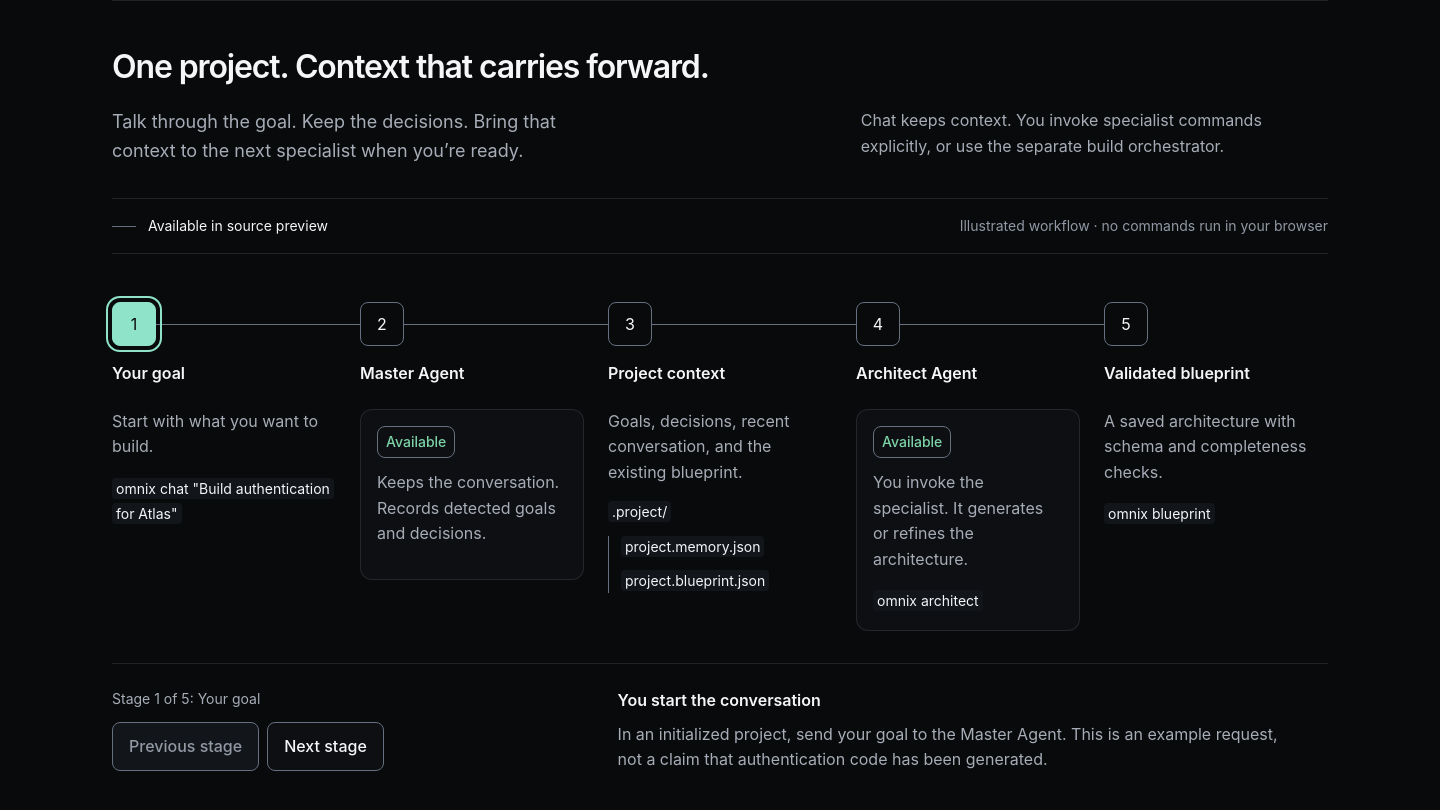
Scenario: keeps the complete ordered story readable while visitors select a stage
Click the button "4 Architect Agent": click(968, 343) x1=856 y1=302 x2=1080 y2=385
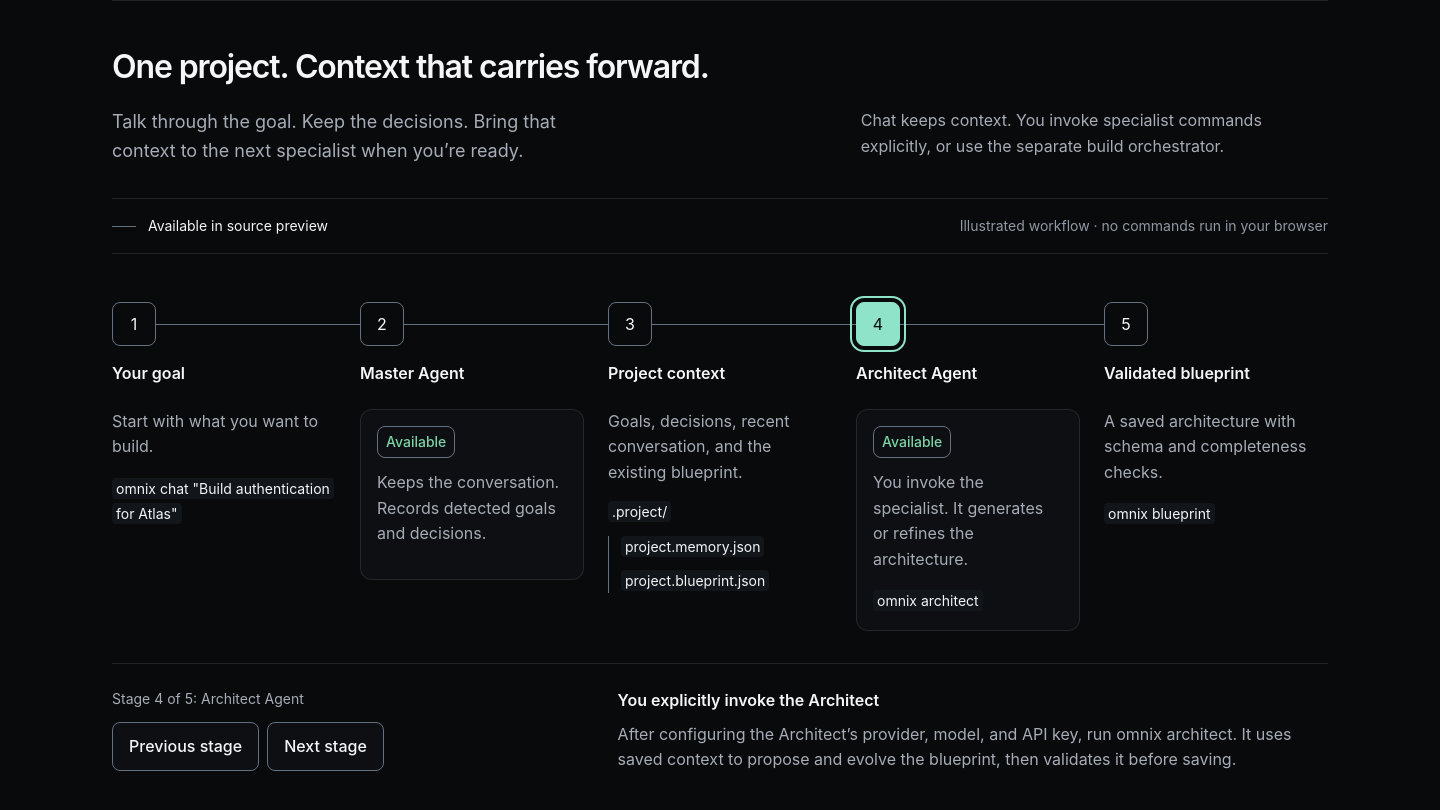
Expected: the text "Start with what you want to build." is shown, x1=112 y1=409 x2=336 y2=460
Expected: the message reads "Stage 4 of 5: Architect Agent", x1=112 y1=690 x2=304 y2=707
Expected: the element "You explicitly invoke the Architect" shows "After configuring the Architect’s provider, model, and API key, run omnix architect. It uses saved context to propose and evolve the blueprint, then validates i", x1=618 y1=724 x2=1292 y2=769
